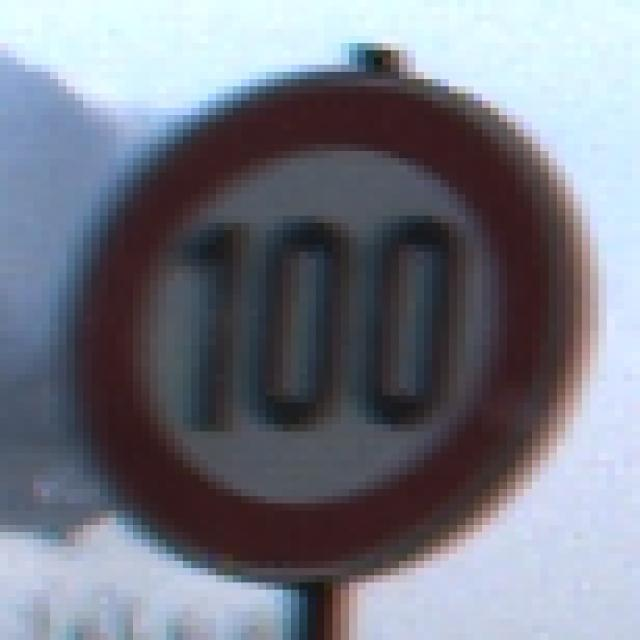speed limit 100: (68, 73, 608, 601)
